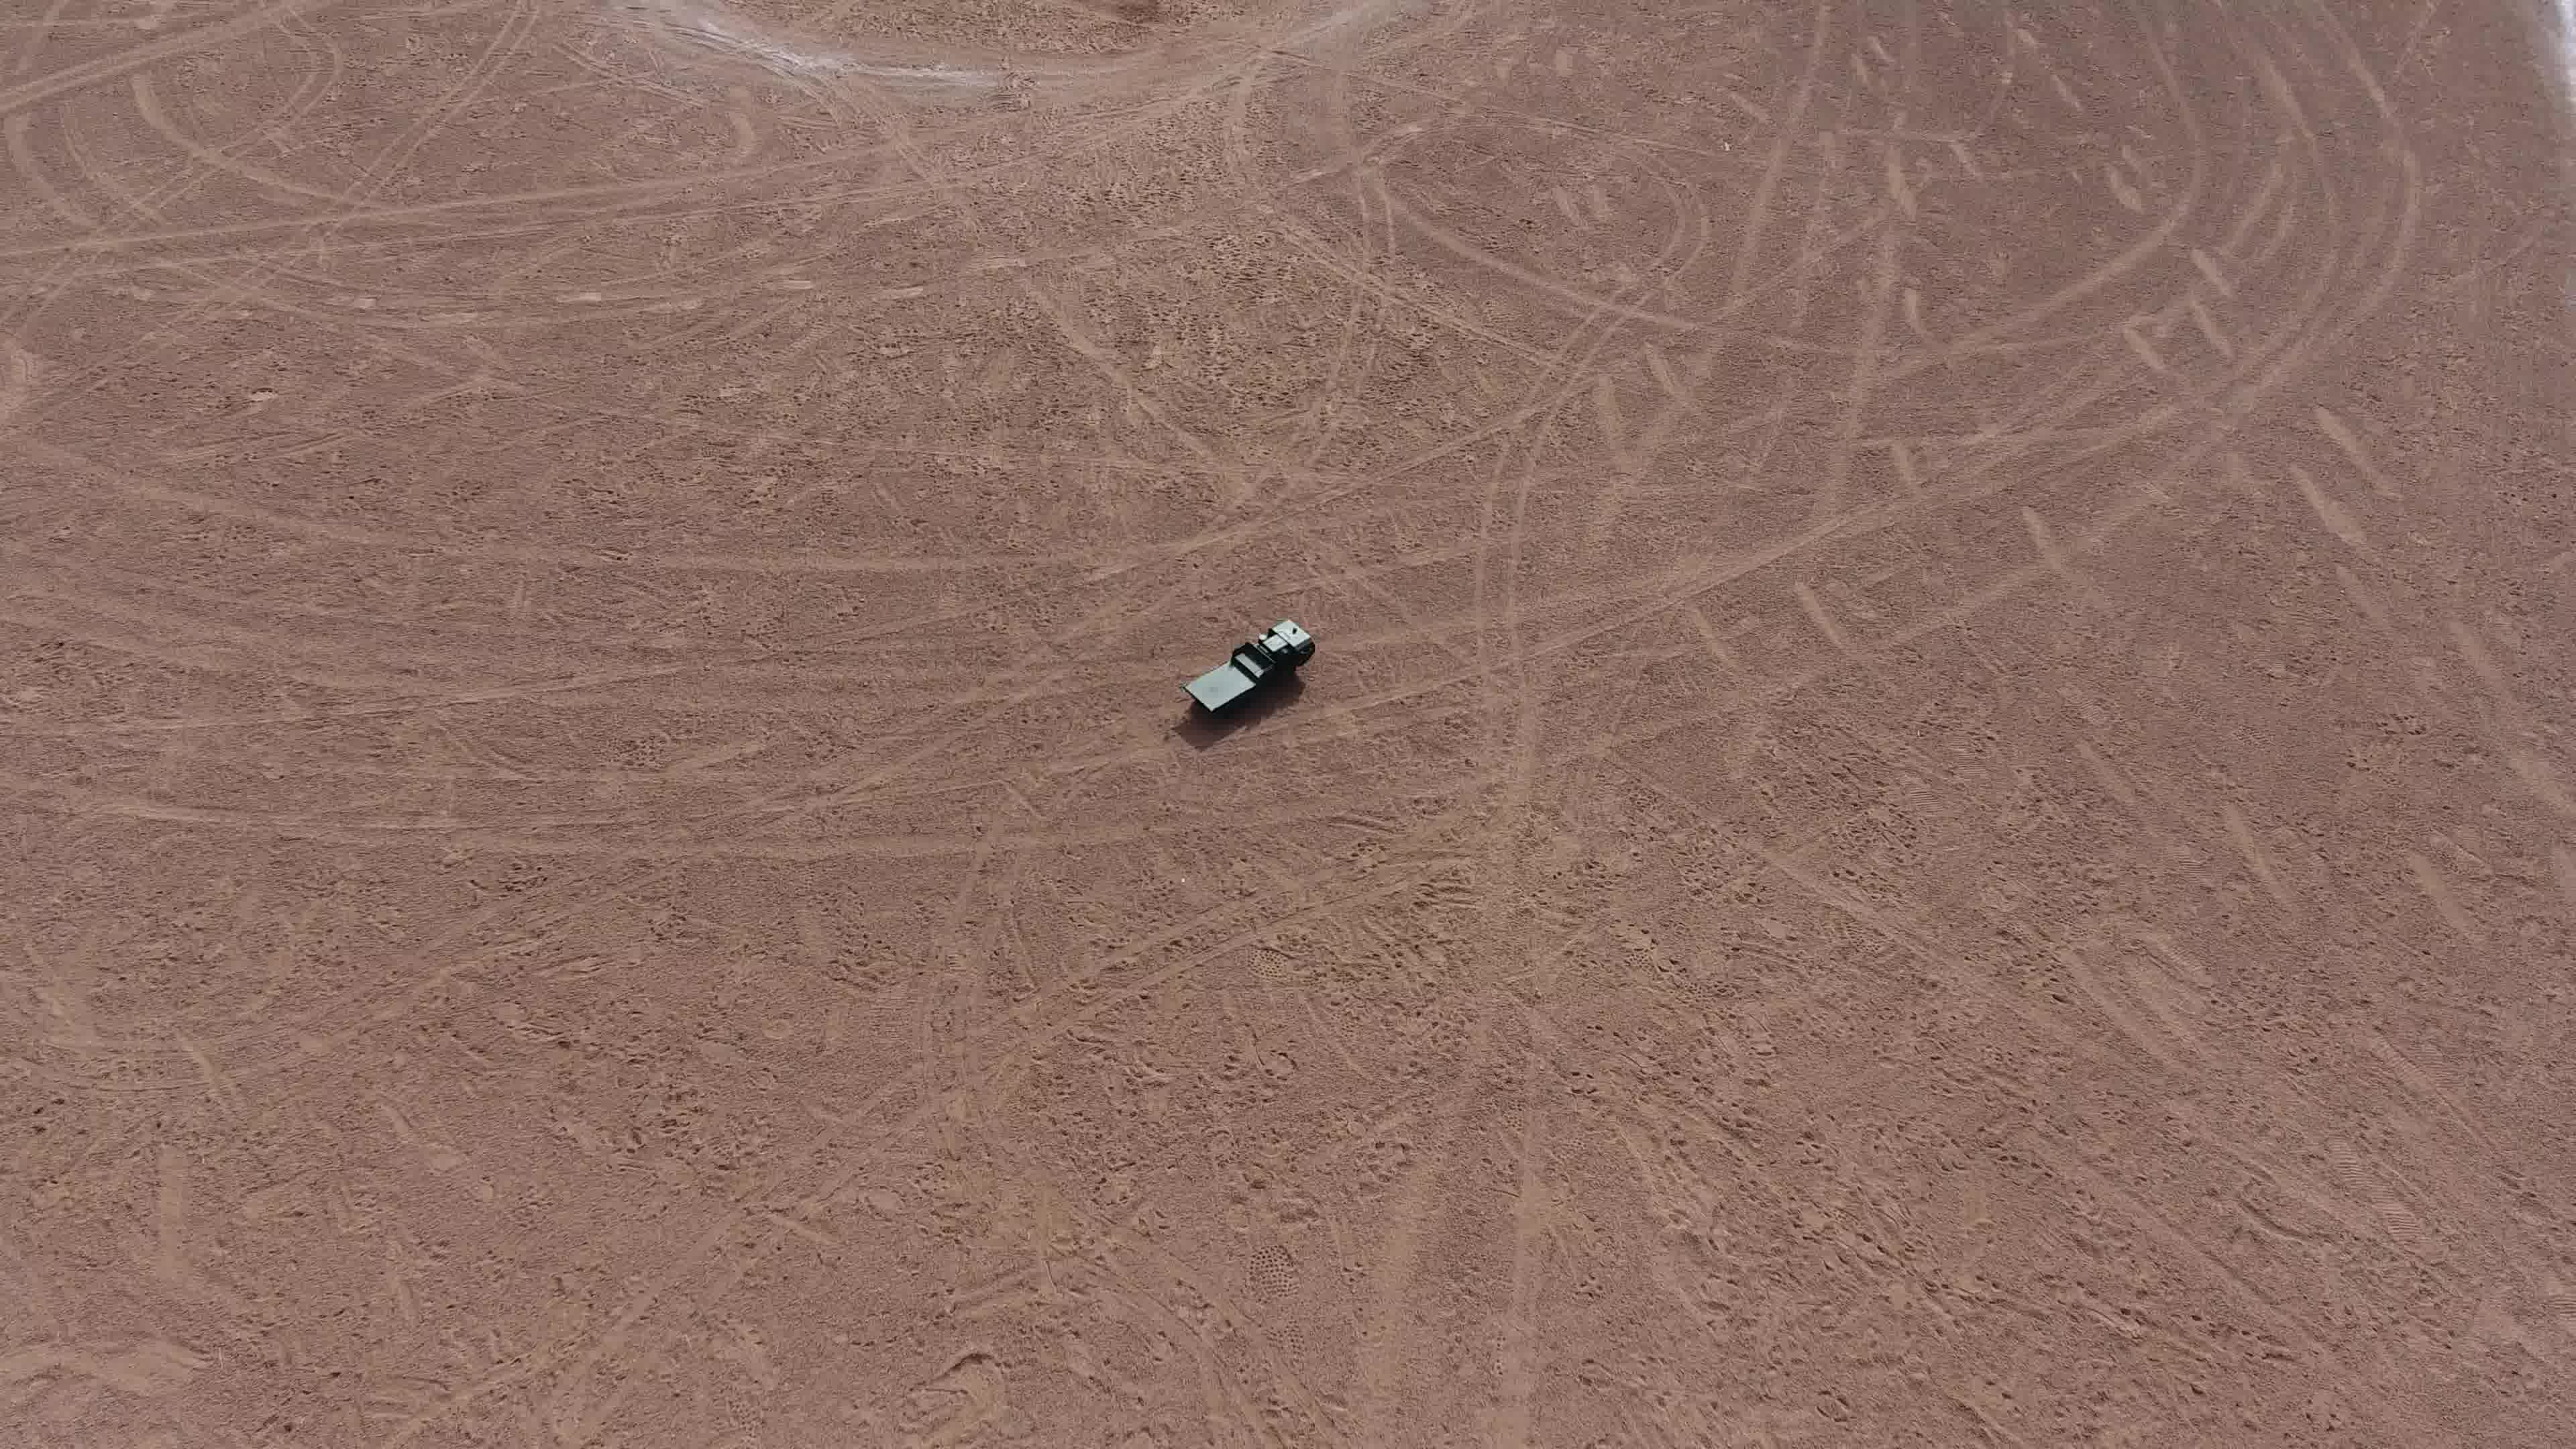transporter9: (1175, 616, 1322, 725)
